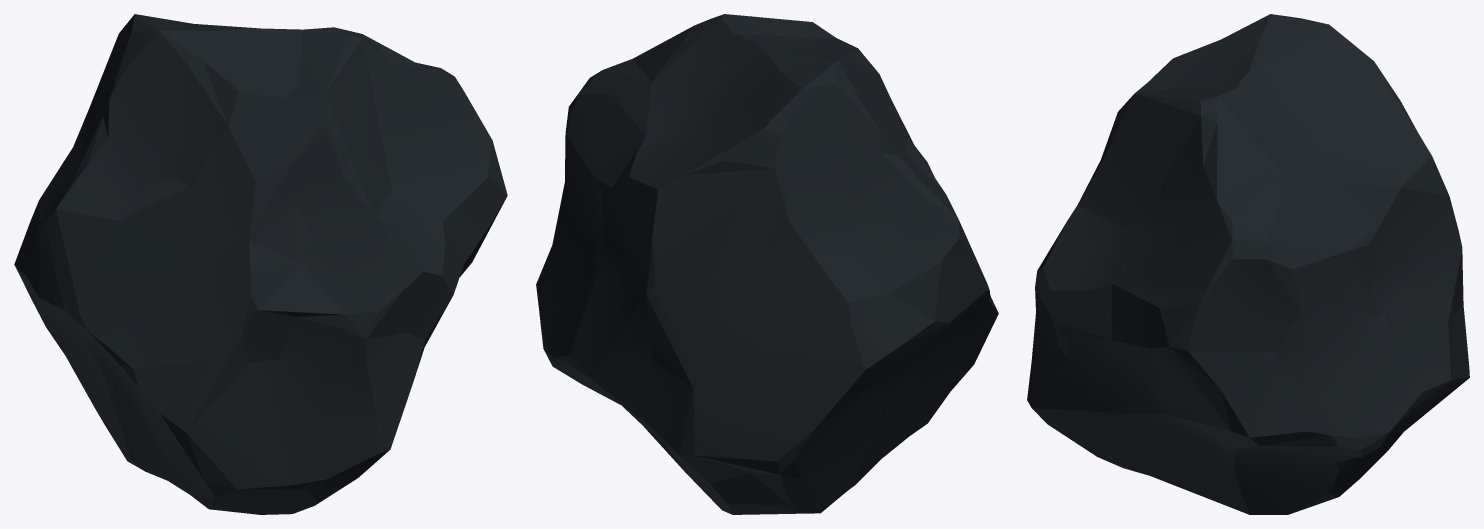
The model's file is Asteroid_m_12.FBX.
3 views of the same model, side by side, from view 1: azimuth 30°, elevation 25°; view 2: azimuth 150°, elevation 25°; view 3: azimuth 270°, elevation 25° (orthographic). The views are drawn at different scales.
Visible parts, largest first — view 1: Asteroid_m_12; view 2: Asteroid_m_12; view 3: Asteroid_m_12.
Boxes of the visible parts, left/top/right/bottom form: Asteroid_m_12: left=14, top=14, right=507, bottom=514; Asteroid_m_12: left=536, top=14, right=998, bottom=514; Asteroid_m_12: left=1027, top=14, right=1469, bottom=514.
Bounding box in the file's own units: 912 × 959 × 848.
